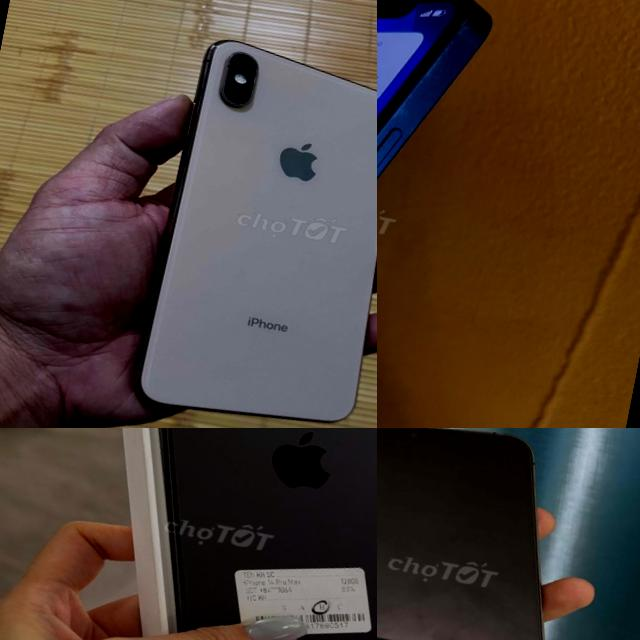scratch: (377, 428, 408, 451)
